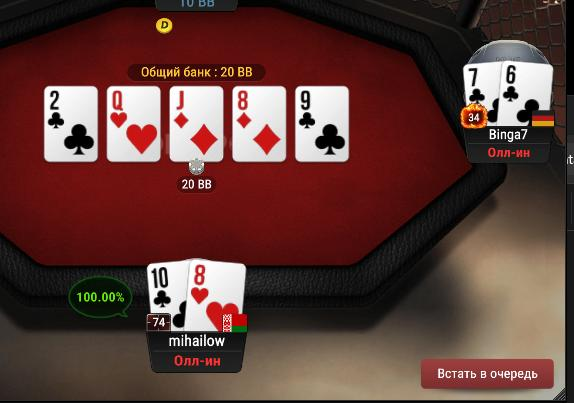10c: (144, 261, 186, 331)
2c: (45, 88, 97, 160)
6c: (501, 61, 554, 125)
7c: (462, 61, 501, 127)
8d: (232, 86, 285, 160)
8h: (188, 259, 246, 332)
9c: (296, 87, 348, 162)
Jd: (171, 87, 222, 160)
Qh: (108, 87, 159, 162)
